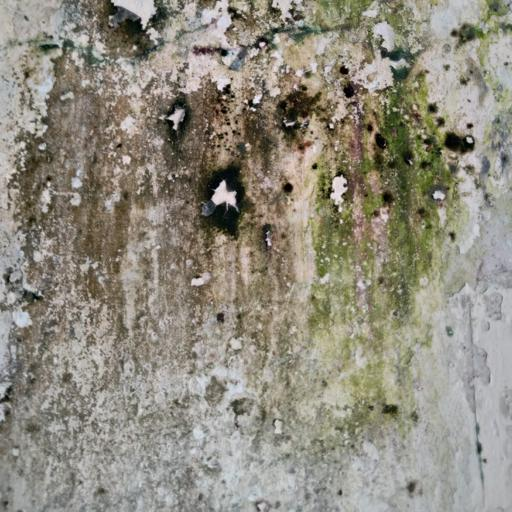algae: (211, 46, 493, 436)
